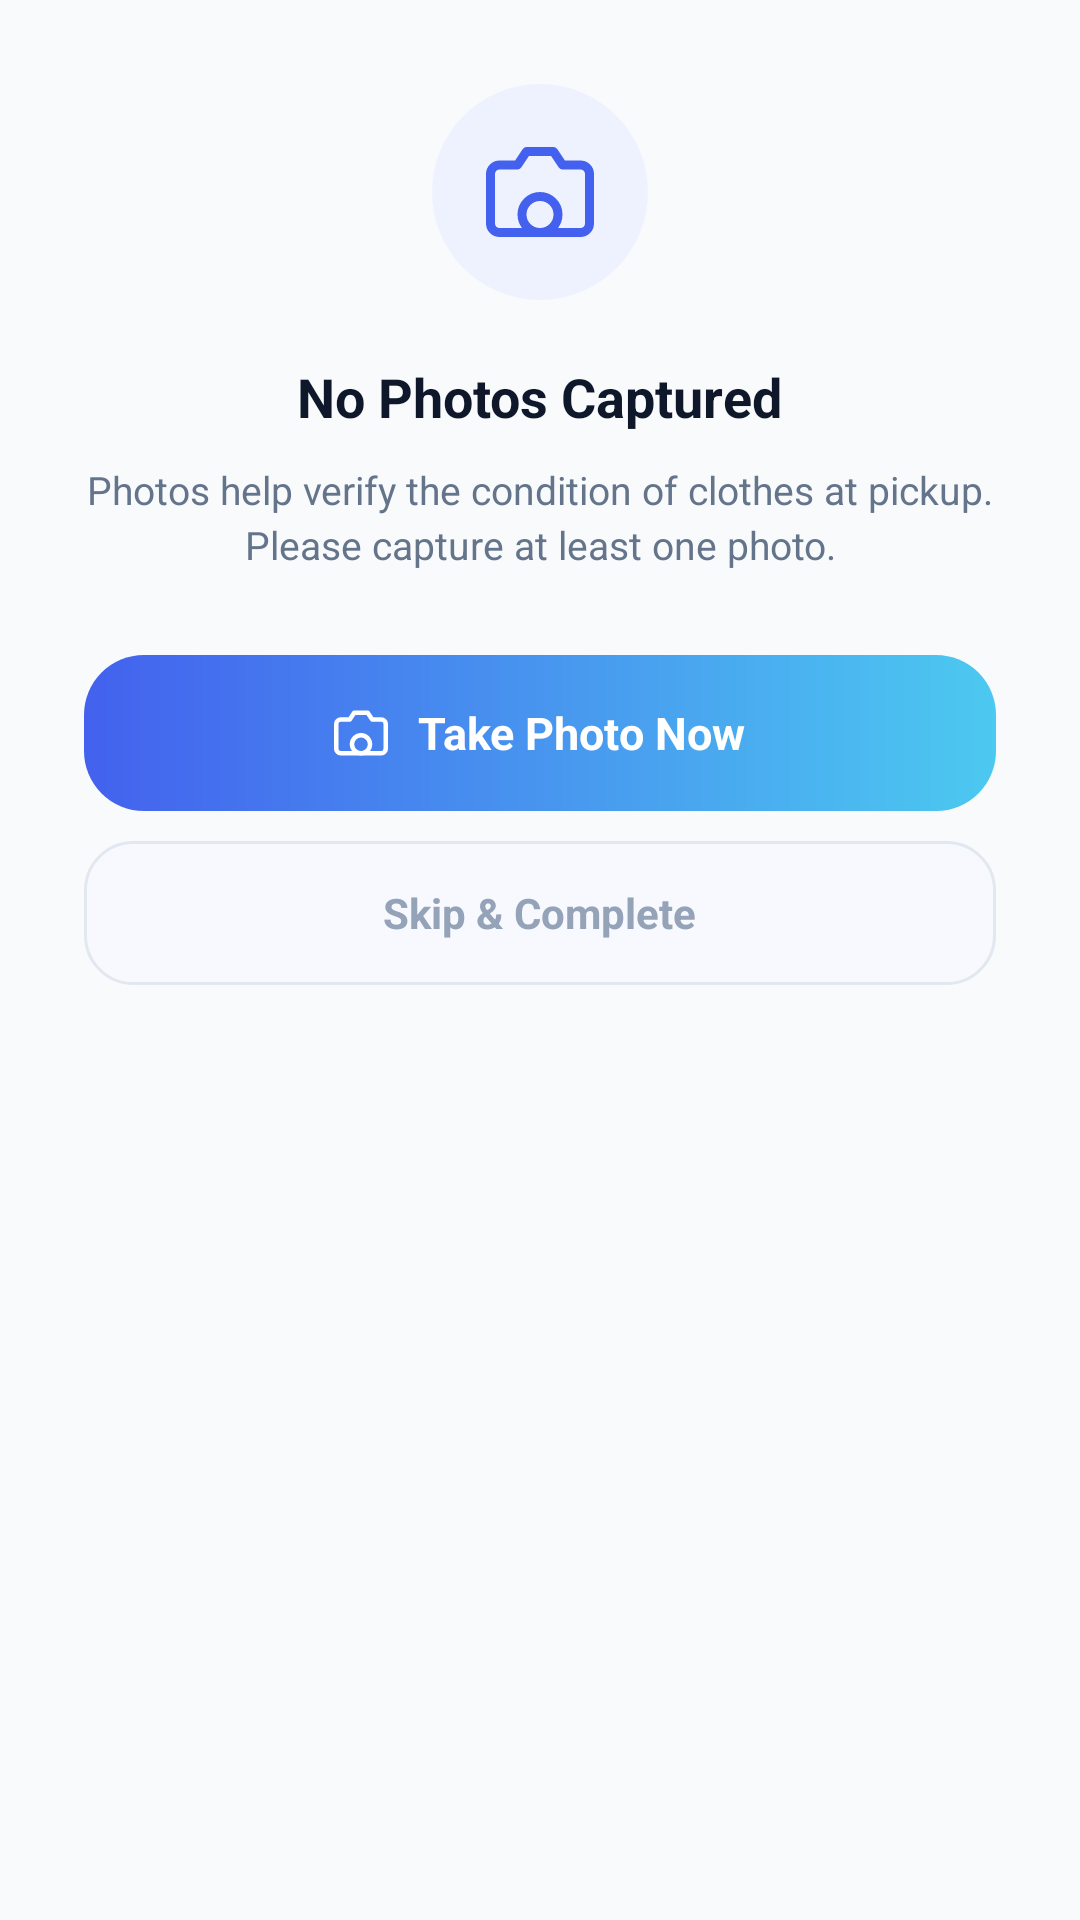

Where icons sit on this 1080px x 1920px app screen, as (x1, y1, x2, y2):
camera: (486, 147, 594, 237), (334, 710, 388, 756)
